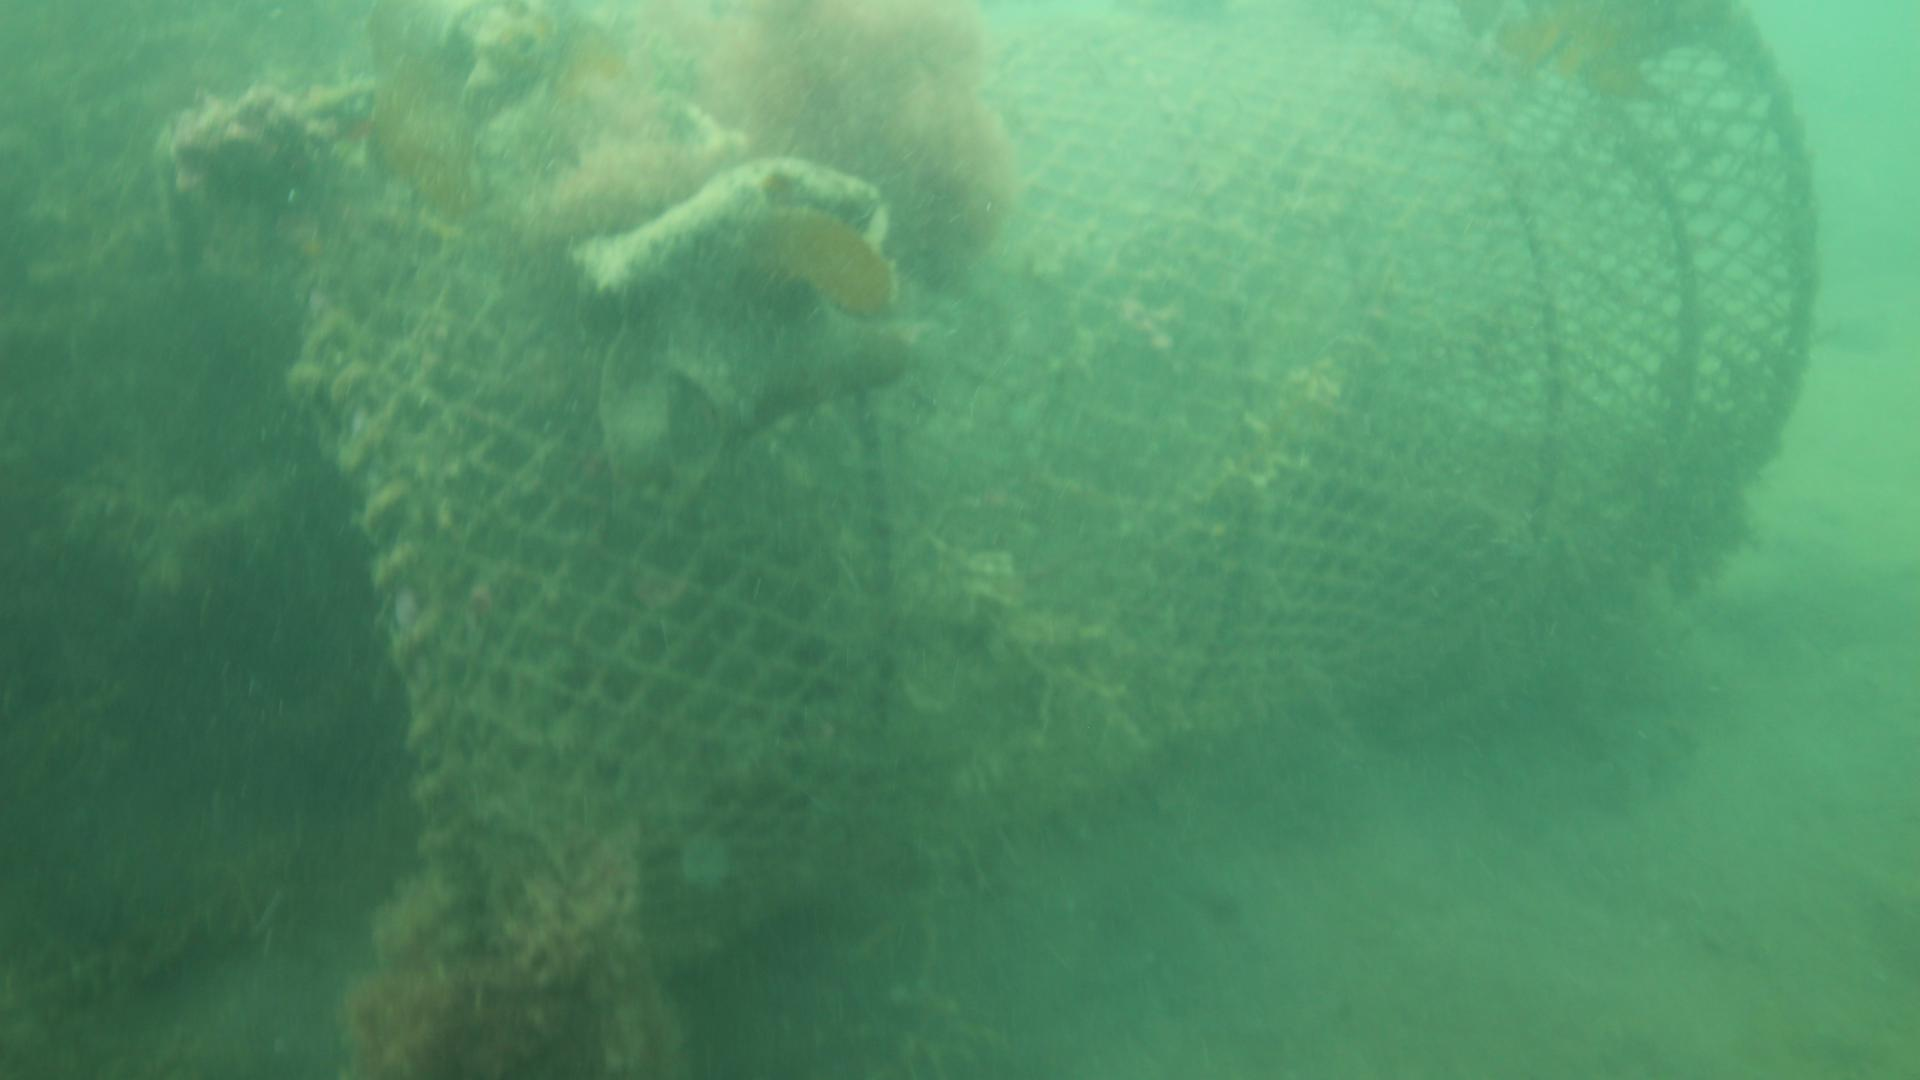spring fish trap: (167, 0, 1825, 988)
